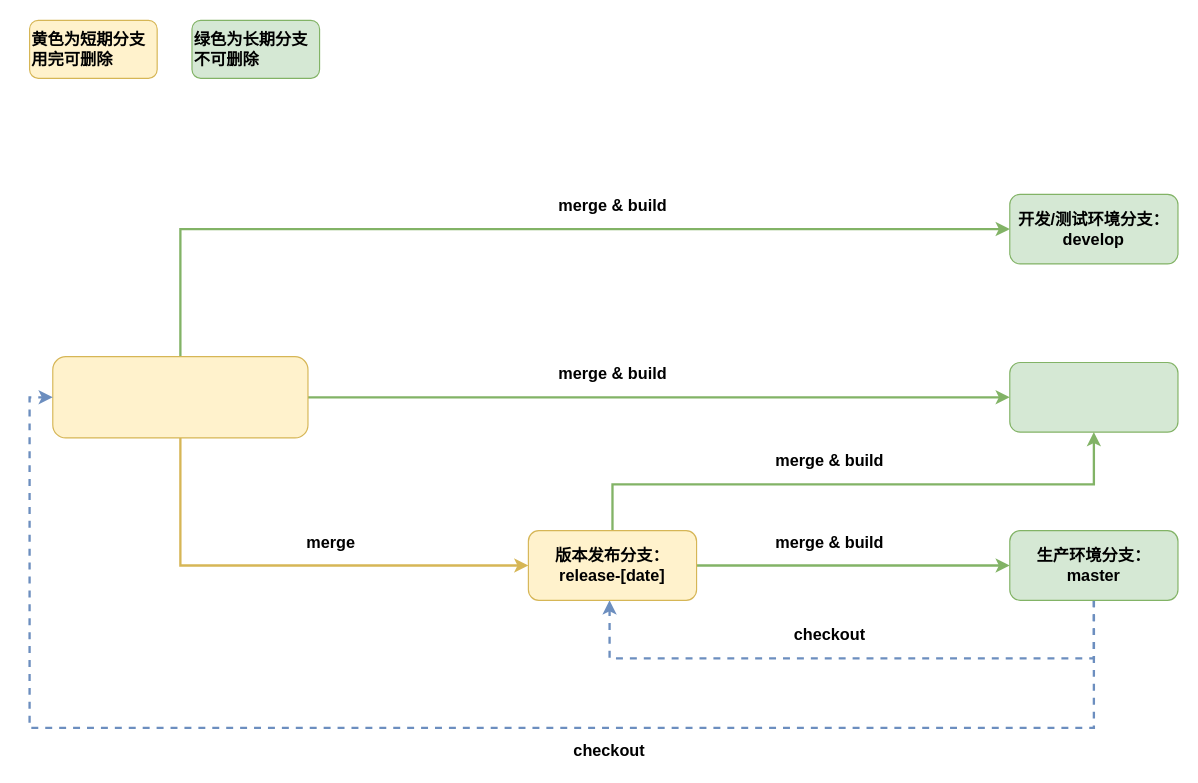
The diagram is 1198 pixels wide and 783 high, and some of its shapes have lost their labels. The centre of each missing label's shape, as x and y in pixels:
功能分支：feature-[issues id] bug修复分支：fix-[issues id]: (180,397)
预发环境分支：release: (1093,396)
